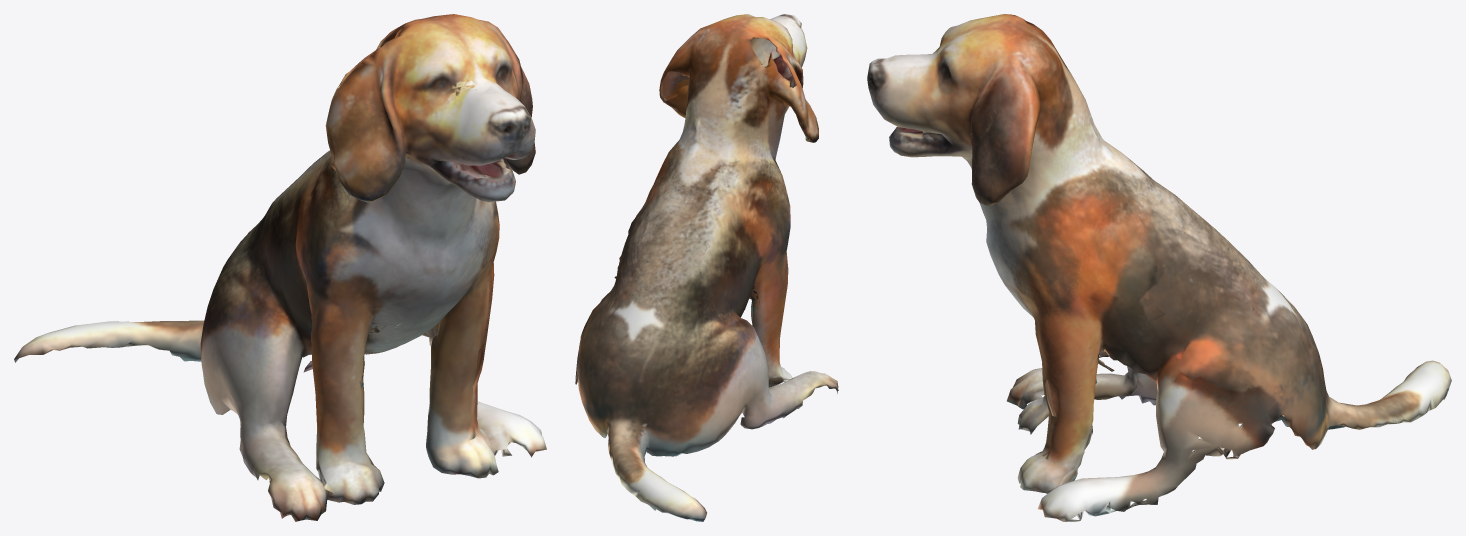
Rendered from beagle.glb.
The picture shows the model from 3 angles, left to right: view 1: azimuth 30°, elevation 25°; view 2: azimuth 150°, elevation 25°; view 3: azimuth 270°, elevation 25°; orthographic projection. The views are drawn at different scales.
Visible parts, largest first — view 1: geo1; view 2: geo1; view 3: geo1.
Boxes of the visible parts, x1,y1,x2,y2 form: geo1: (14,14,546,521); geo1: (575,14,838,521); geo1: (867,14,1451,521).
Bounding box in the file's own units: 0.3463 × 0.49 × 0.5929.
1 material, 1 textured.
